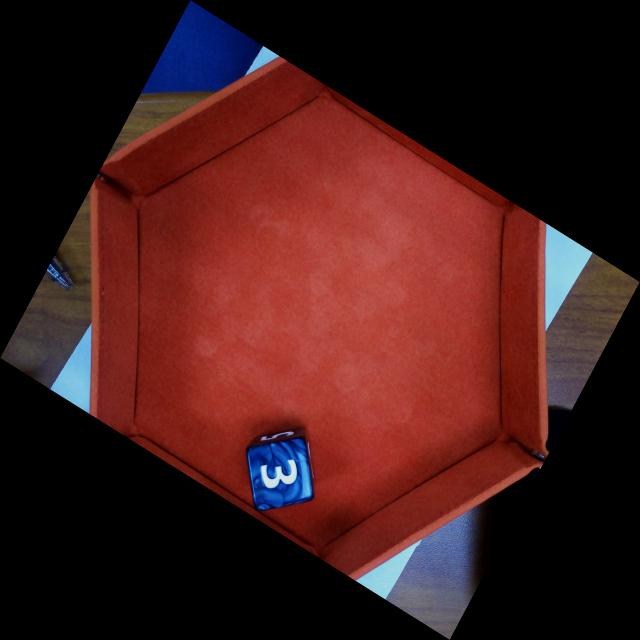dice: (247, 437, 312, 510)
